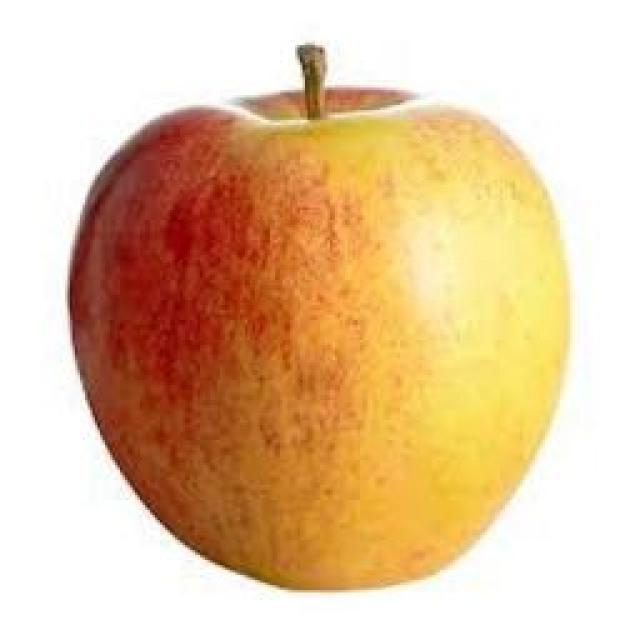Apple: (70, 108, 568, 588)
